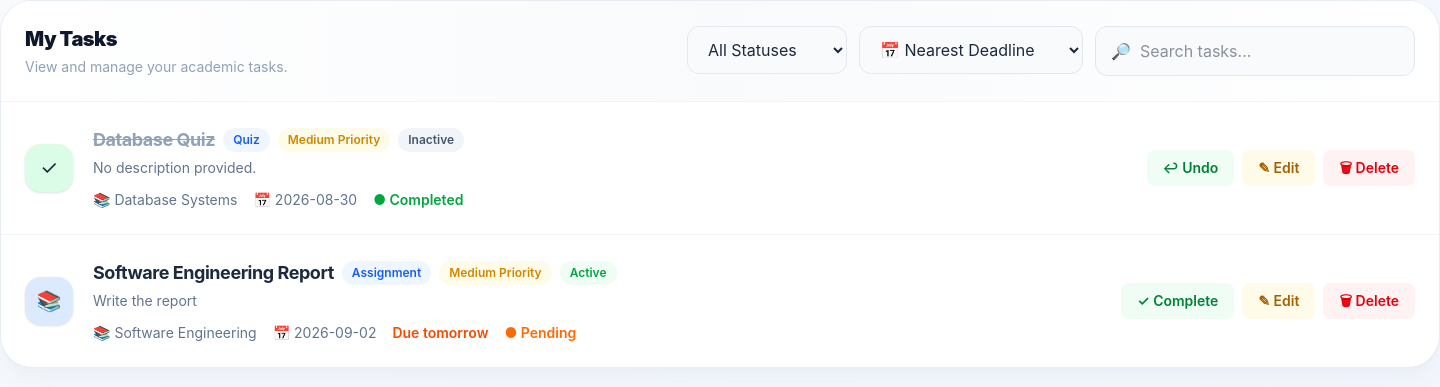
Taskly form and task list components › filters the task list by Active status
This screenshot has width=1440, height=387.
Select "Active" in the dropdown with id "task-status-filter" at (767,50), box [687,26,847,74]
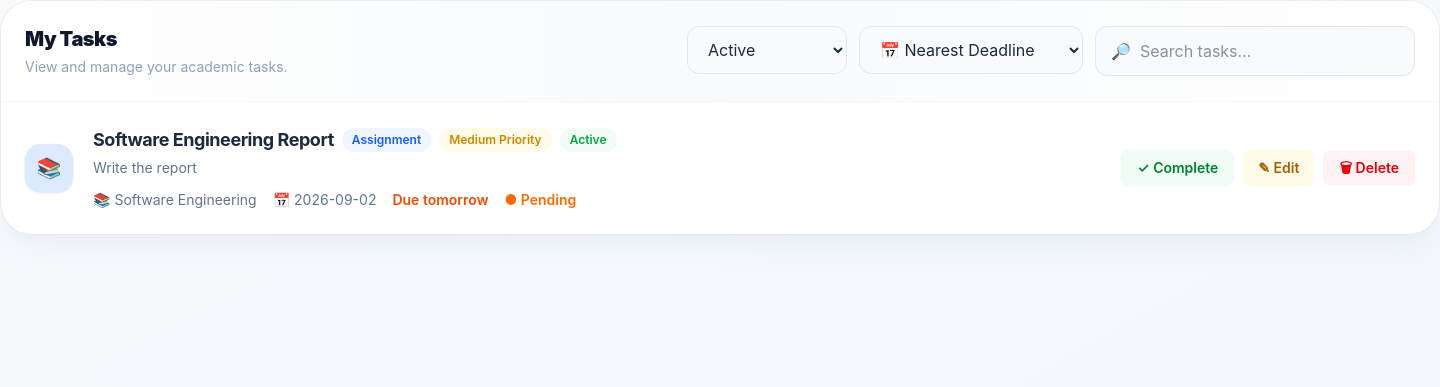
Expected: the text "Software Engineering Report" is shown, [93,126,334,154]
Expected: the text "Database Quiz" is gone
